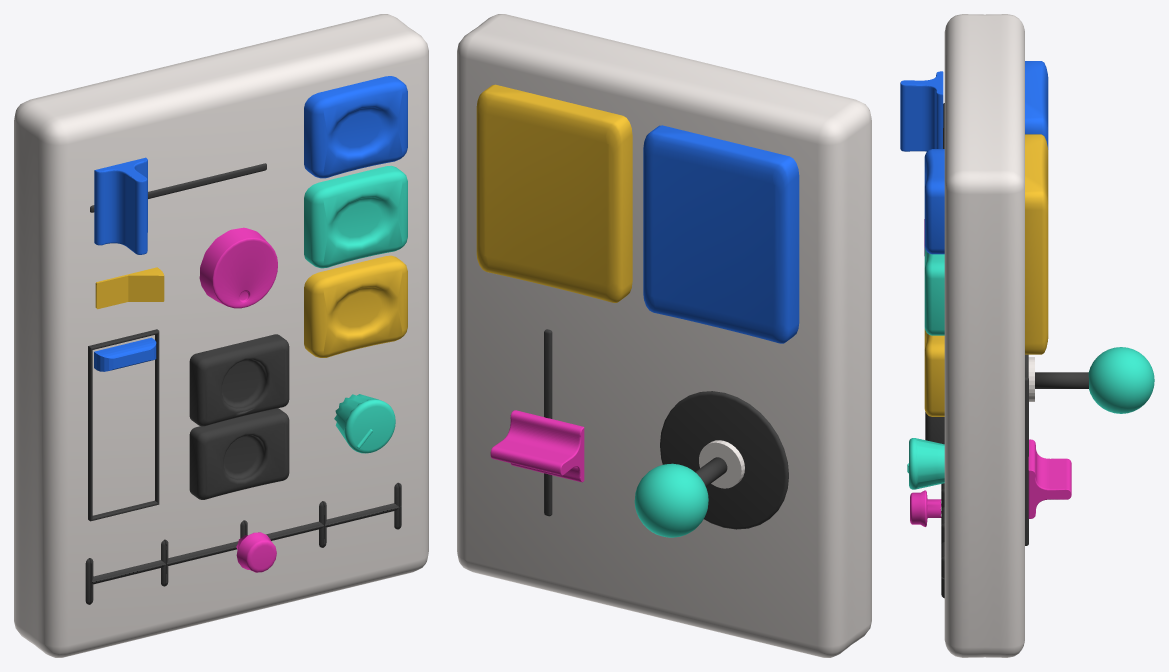
The model's file is configurator-color.glb.
3 views of the same model, side by side, from view 1: azimuth 30°, elevation 25°; view 2: azimuth 150°, elevation 25°; view 3: azimuth 270°, elevation 25° (orthographic). The views are drawn at different scales.
Parts seen in each view (by area): view 1: base, 2a, 2c, 2b, 6a, 6b, 3, 1, Cube.010, 7, Cube.004, 4 (+3 smaller); view 2: base, prev, next, socle, movements, zoom, Cylinder.002, Cube.011; view 3: base, prev, movements, 1, 2a, zoom, next, 2b, 2c, 7, 8, Cube.011 (+2 smaller).
Boxes of the visible parts, x1=… form: base: x1=14, y1=14, x2=428, y2=657; 2a: x1=304, y1=76, x2=407, y2=178; 2c: x1=304, y1=255, x2=407, y2=357; 2b: x1=304, y1=165, x2=407, y2=268; 6a: x1=189, y1=334, x2=289, y2=426; 6b: x1=189, y1=408, x2=289, y2=499; 3: x1=199, y1=227, x2=277, y2=308; 1: x1=94, y1=157, x2=147, y2=254; Cube.010: x1=85, y1=482, x2=401, y2=604; 7: x1=334, y1=394, x2=395, y2=453; Cube.004: x1=88, y1=329, x2=159, y2=521; 4: x1=95, y1=267, x2=164, y2=309; base: x1=457, y1=14, x2=871, y2=657; prev: x1=476, y1=84, x2=632, y2=302; next: x1=643, y1=125, x2=799, y2=343; socle: x1=660, y1=391, x2=788, y2=529; movements: x1=634, y1=457, x2=727, y2=537; zoom: x1=490, y1=410, x2=584, y2=482; Cylinder.002: x1=699, y1=440, x2=744, y2=488; Cube.011: x1=544, y1=329, x2=552, y2=516; base: x1=944, y1=14, x2=1024, y2=657; prev: x1=1025, y1=134, x2=1048, y2=354; movements: x1=1035, y1=347, x2=1154, y2=413; 1: x1=900, y1=71, x2=943, y2=151; 2a: x1=924, y1=149, x2=944, y2=254; zoom: x1=1028, y1=439, x2=1071, y2=518; next: x1=1025, y1=61, x2=1048, y2=149; 2b: x1=924, y1=247, x2=944, y2=335; 2c: x1=924, y1=329, x2=944, y2=416; 7: x1=907, y1=438, x2=944, y2=489; 8: x1=910, y1=490, x2=941, y2=526; Cube.011: x1=1025, y1=376, x2=1028, y2=545.
Bounding box in the file's own units: 11.54 × 15.39 × 7.3.
